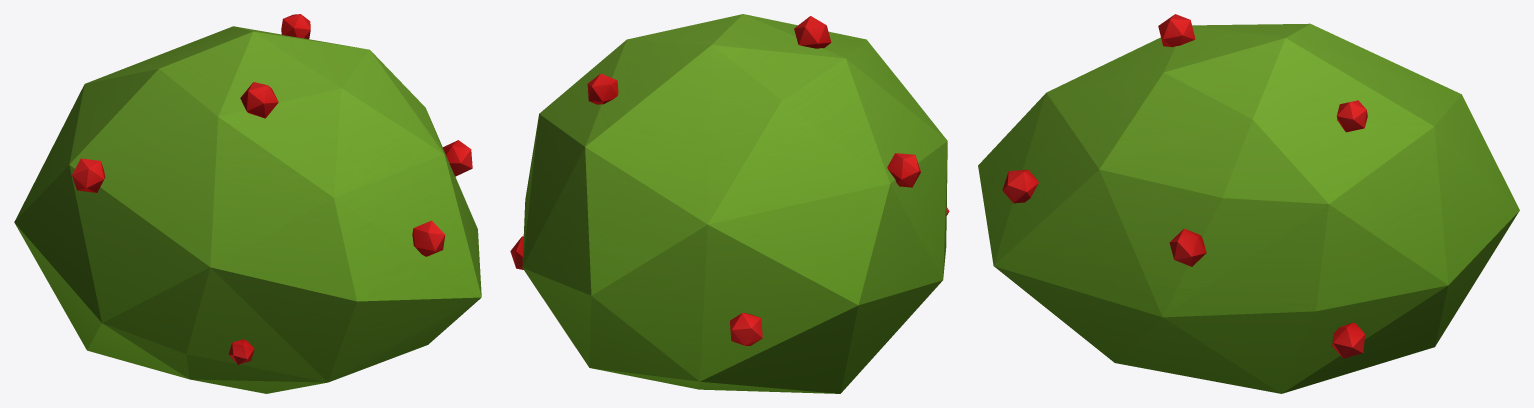
File: Bush_06.fbx
3 renders of one model, left to right at view 1: azimuth 30°, elevation 25°; view 2: azimuth 150°, elevation 25°; view 3: azimuth 270°, elevation 25°, orthographic. The views are drawn at different scales.
Parts seen in each view (by area): view 1: Bush_06; view 2: Bush_06; view 3: Bush_06.
Boxes of the visible parts, x1=… form: Bush_06: x1=14, y1=14, x2=481, y2=393; Bush_06: x1=510, y1=14, x2=949, y2=393; Bush_06: x1=978, y1=14, x2=1519, y2=393.
Size of the model in its own units: 94.65 by 77.03 by 119.
